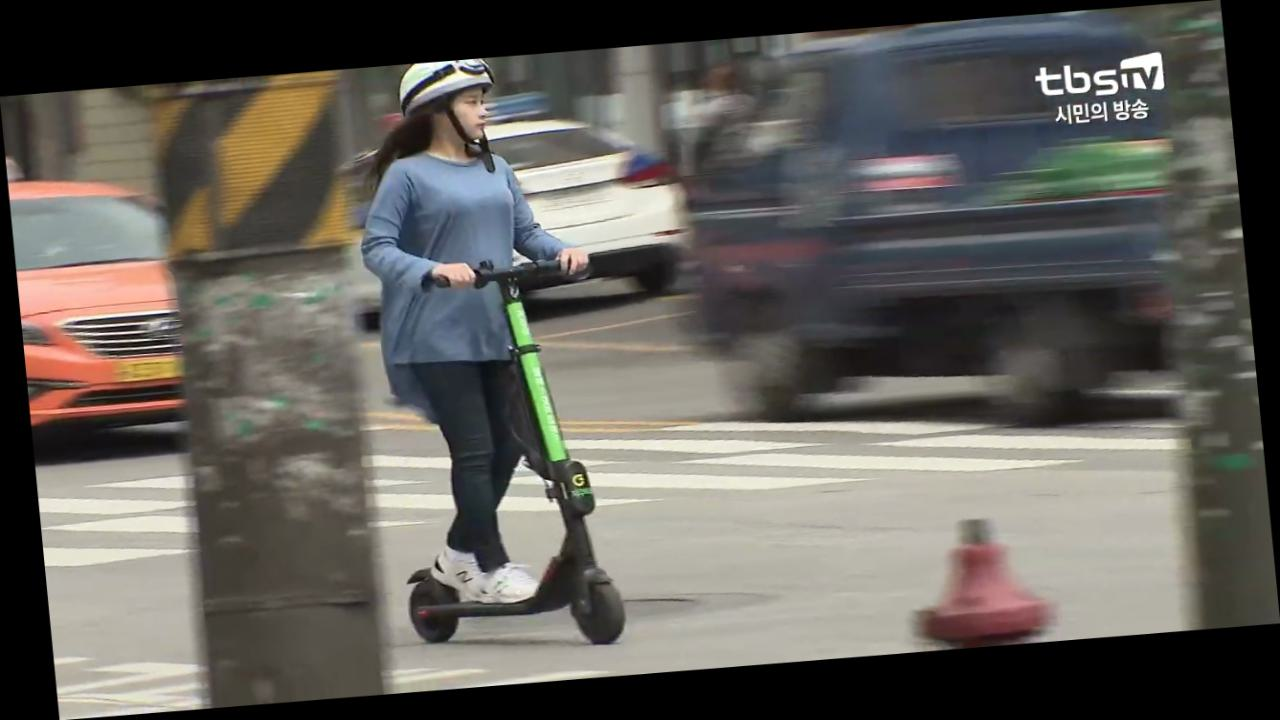helmet: (348, 51, 636, 660)
